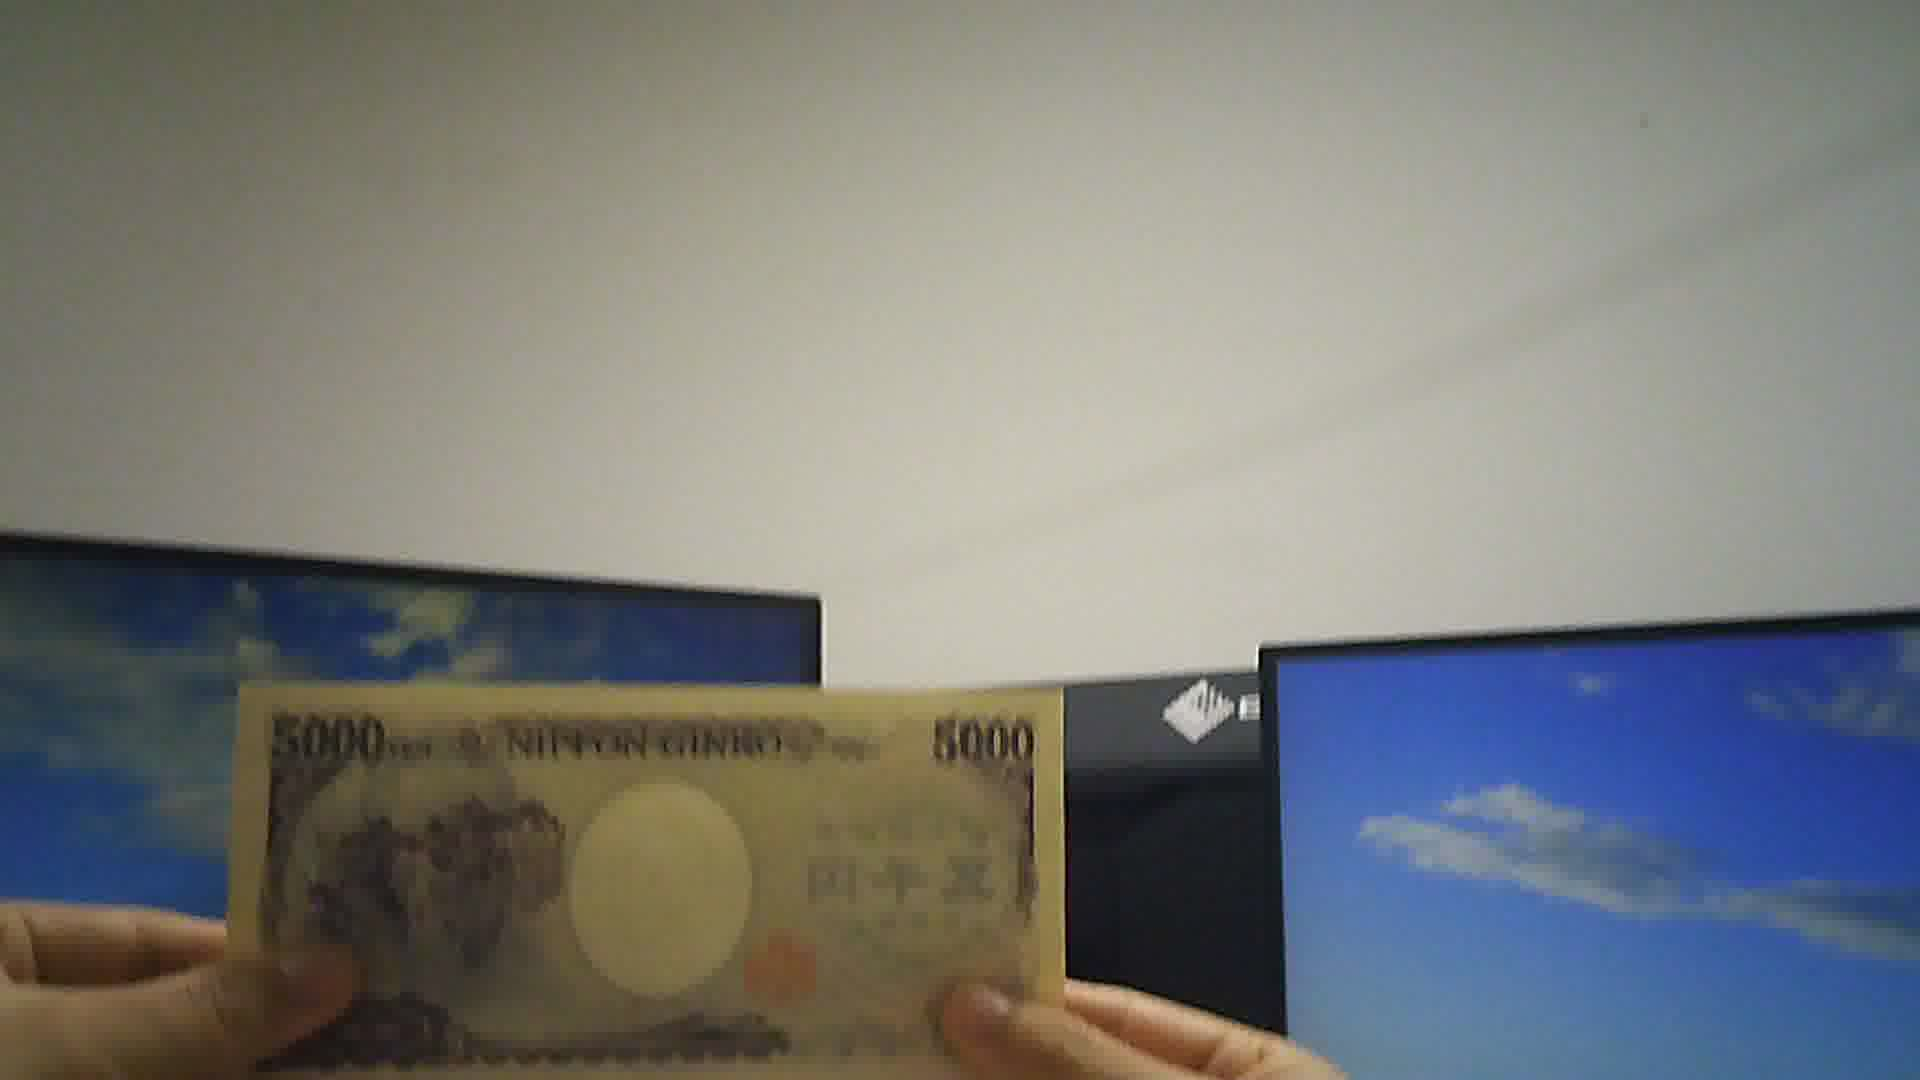5,000 Yen: (225, 665, 1056, 1079)
